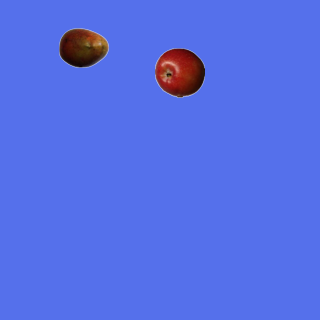Apple Braeburn: (154, 47, 204, 97)
Mango Red: (58, 22, 108, 72)
